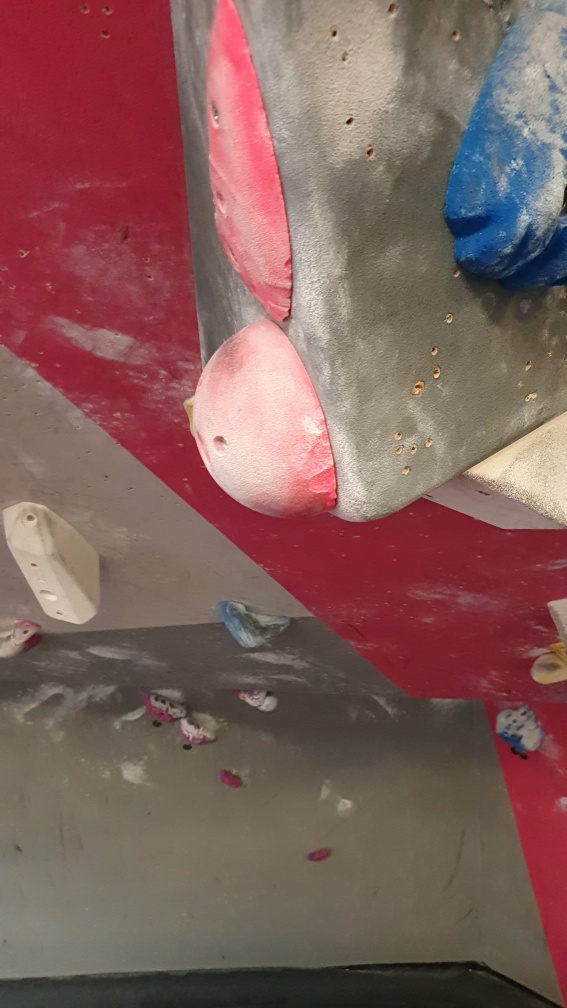Pinch: (1, 498, 109, 628)
Sloper: (191, 316, 340, 521)
